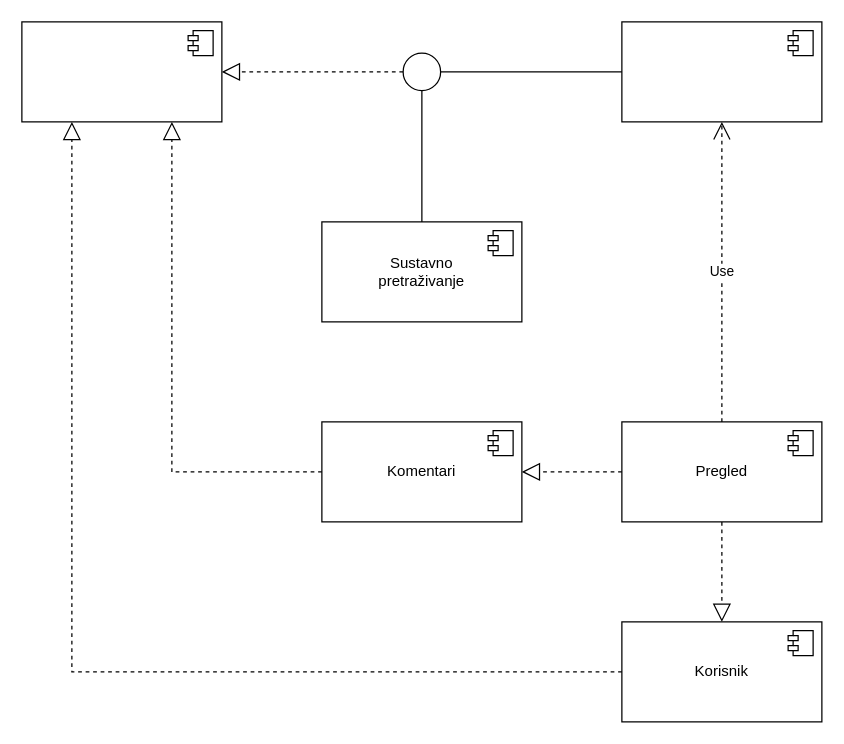
Image size: 844x744. Some labels were removed from this diagram. The centre of each missing label's shape, as x and y in pixels:
"Baza podataka C&N stranice" belongs at pixel 121 71.
"Kafić" belongs at pixel 721 71.
